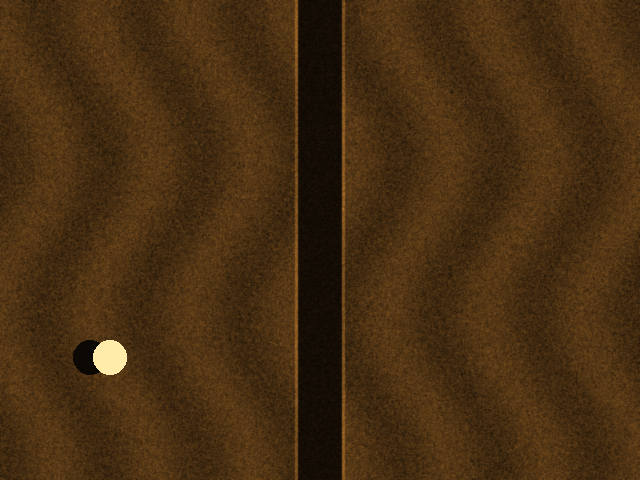Glass Debris: (93, 340, 126, 374)
